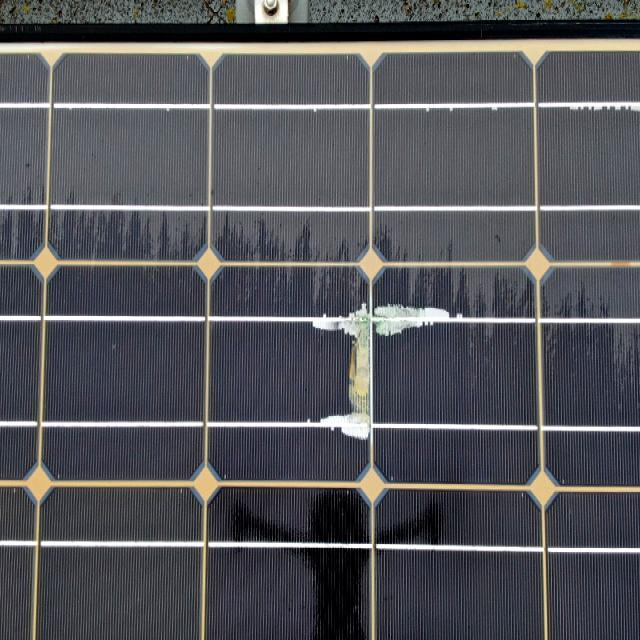shadow: (281, 286, 473, 468)
